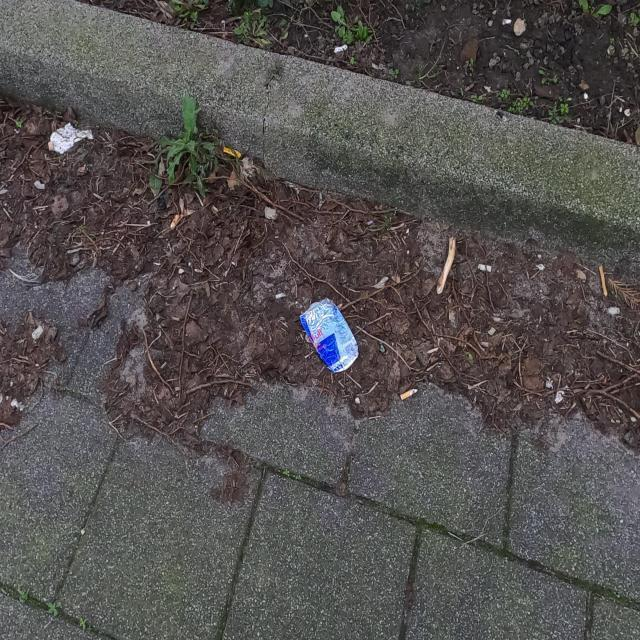Can-Metal: (299, 296, 360, 376)
Paper: (49, 120, 94, 154)
Plastic: (223, 146, 243, 160)
